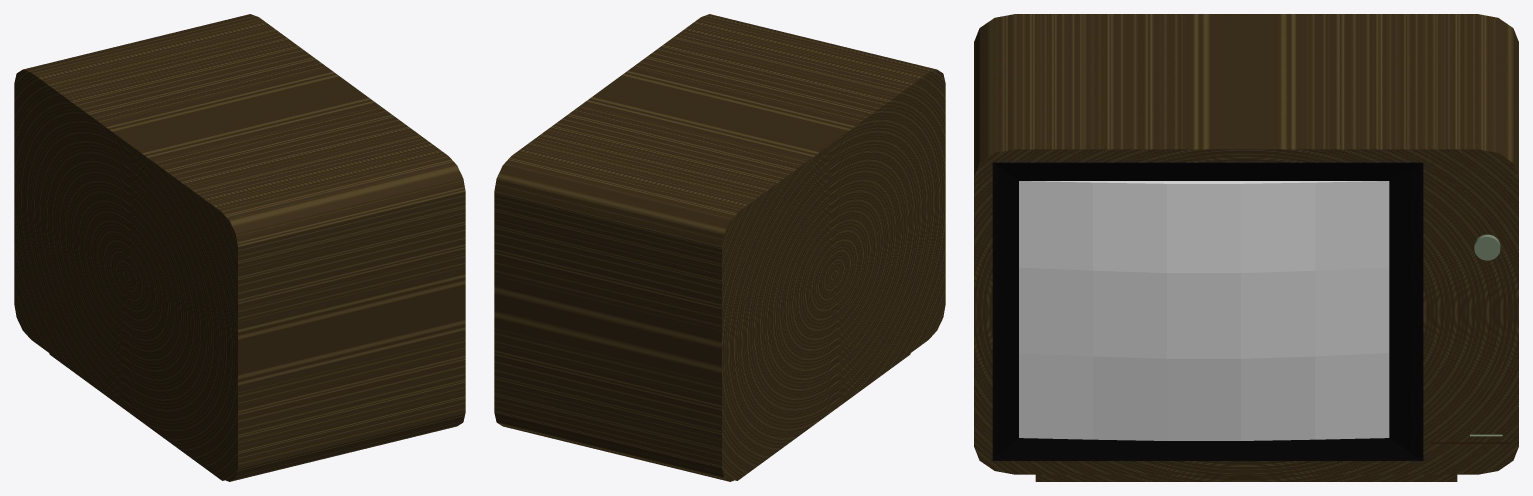
The picture shows the model from 3 angles, left to right: view 1: azimuth 30°, elevation 25°; view 2: azimuth 150°, elevation 25°; view 3: azimuth 270°, elevation 25°; orthographic projection. The views are drawn at different scales.
Visible parts, largest first — view 1: kuciste; view 2: kuciste; view 3: kuciste, ekran.
Part boxes in pixels (box(x1,y1,x2,y2)): kuciste: box(14, 14, 465, 481); kuciste: box(494, 14, 945, 481); kuciste: box(974, 14, 1518, 481); ekran: box(1019, 181, 1389, 440).
Bounding box in the file's own units: 303 × 183 × 208.
Materials: 1 (1 with a texture image).
